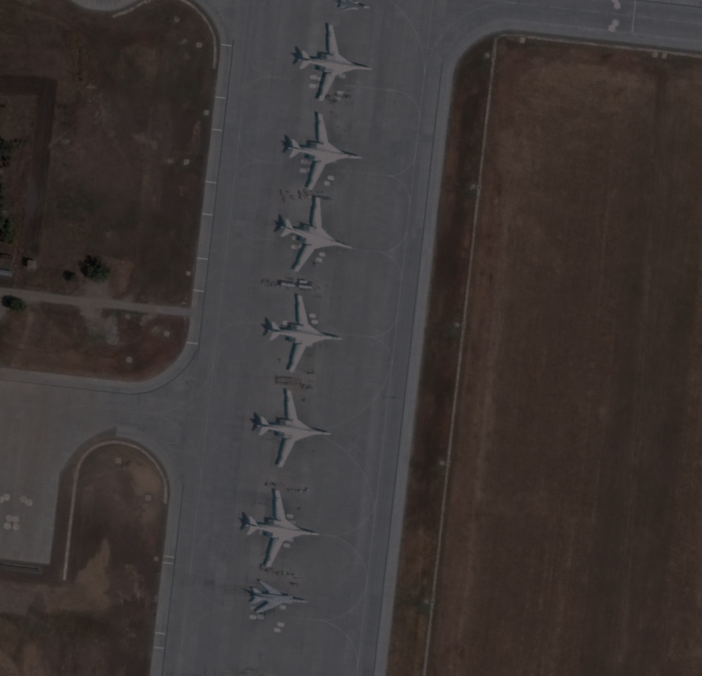A12: (245, 575, 310, 620)
A6: (269, 195, 361, 274), (252, 292, 344, 371), (248, 389, 340, 468), (235, 485, 327, 564), (290, 22, 382, 100), (280, 109, 372, 187)
